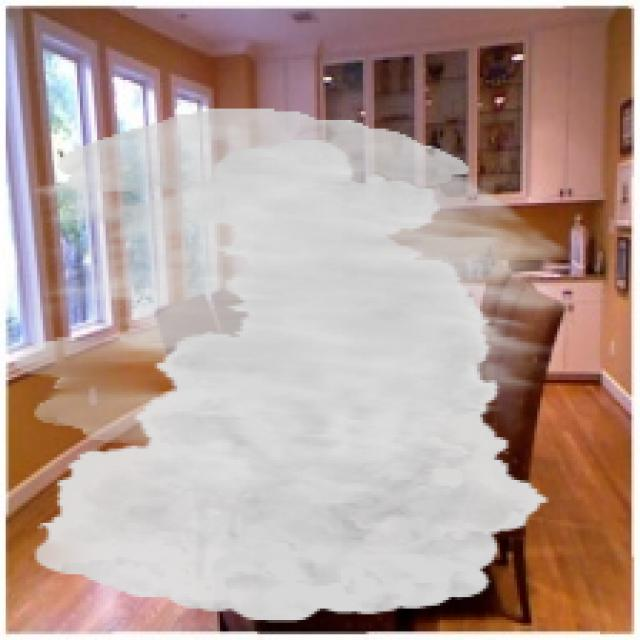smoke: (14, 108, 572, 623)
